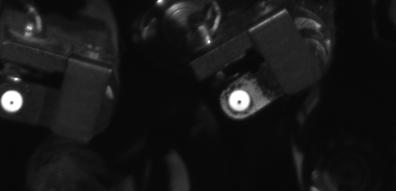fiber: (222, 86, 258, 118), (1, 83, 28, 118)
